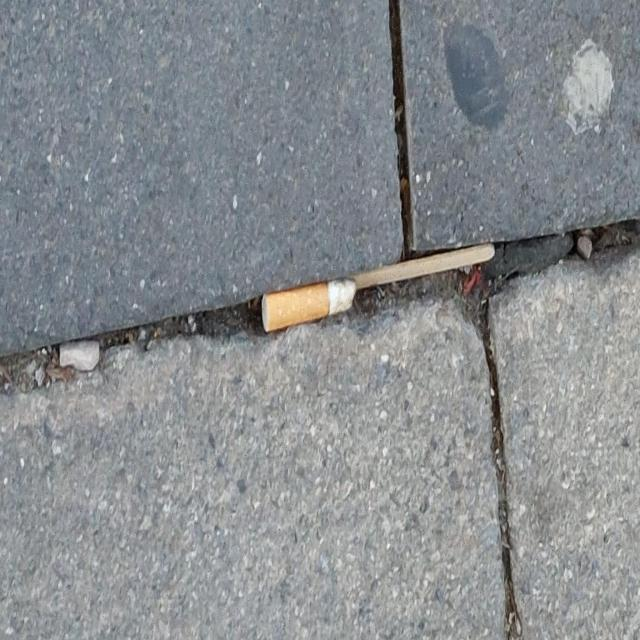other waste: (261, 277, 357, 333)
